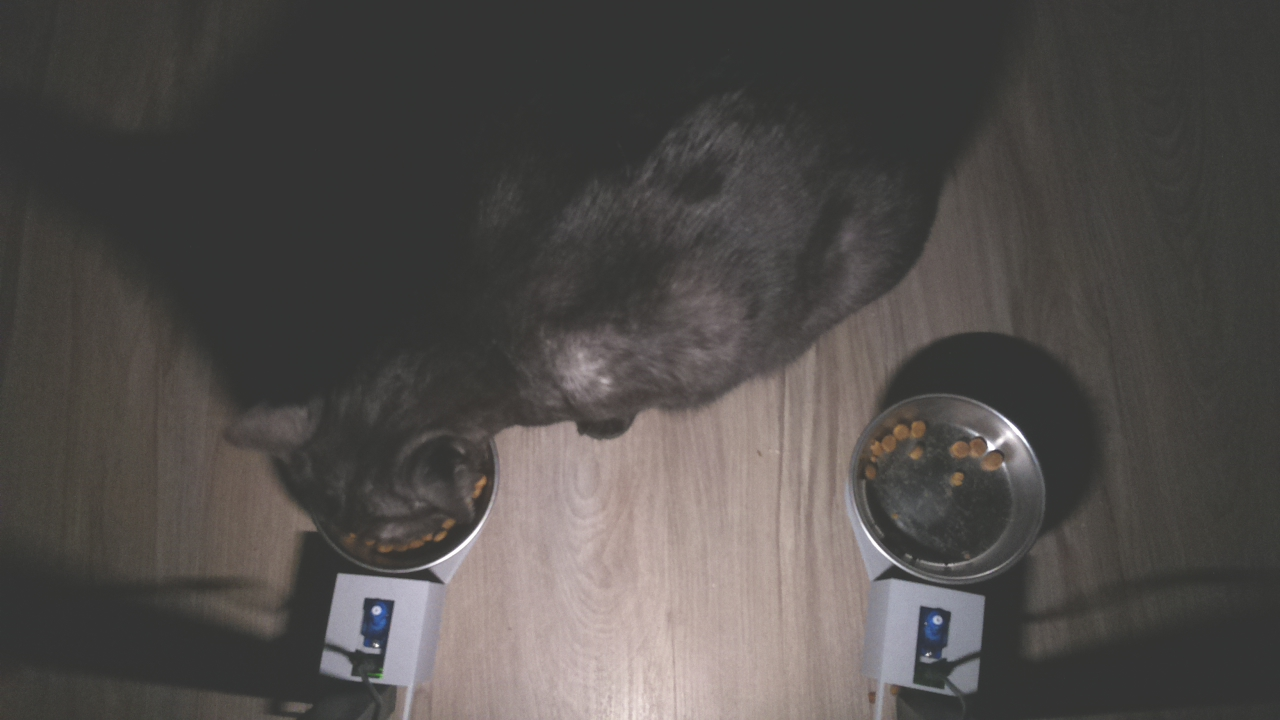open_bowl: (842, 386, 1048, 594)
saki_eating: (215, 314, 516, 580)
